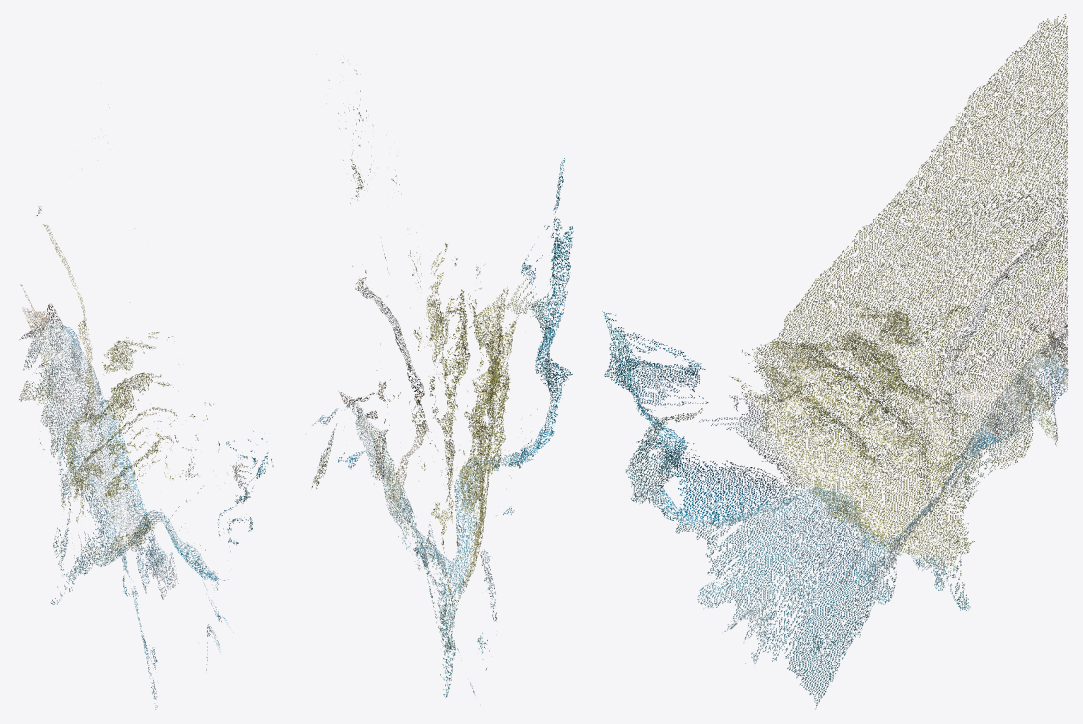
Rendered from hunyuan_scene_001_module_r1_c0.glb.
The picture shows the model from 3 angles, left to right: view 1: azimuth 30°, elevation 25°; view 2: azimuth 150°, elevation 25°; view 3: azimuth 270°, elevation 25°; orthographic projection. The views are drawn at different scales.
Parts seen in each view (by area): view 1: hunyuan_scene_001_module; view 2: hunyuan_scene_001_module; view 3: hunyuan_scene_001_module.
Boxes of the visible parts, x1,y1,x2,y2 form: hunyuan_scene_001_module: (19, 104, 273, 709); hunyuan_scene_001_module: (305, 54, 573, 697); hunyuan_scene_001_module: (602, 14, 1068, 709).
Size of the model in its own units: 2.84 by 22.9 by 13.64.
